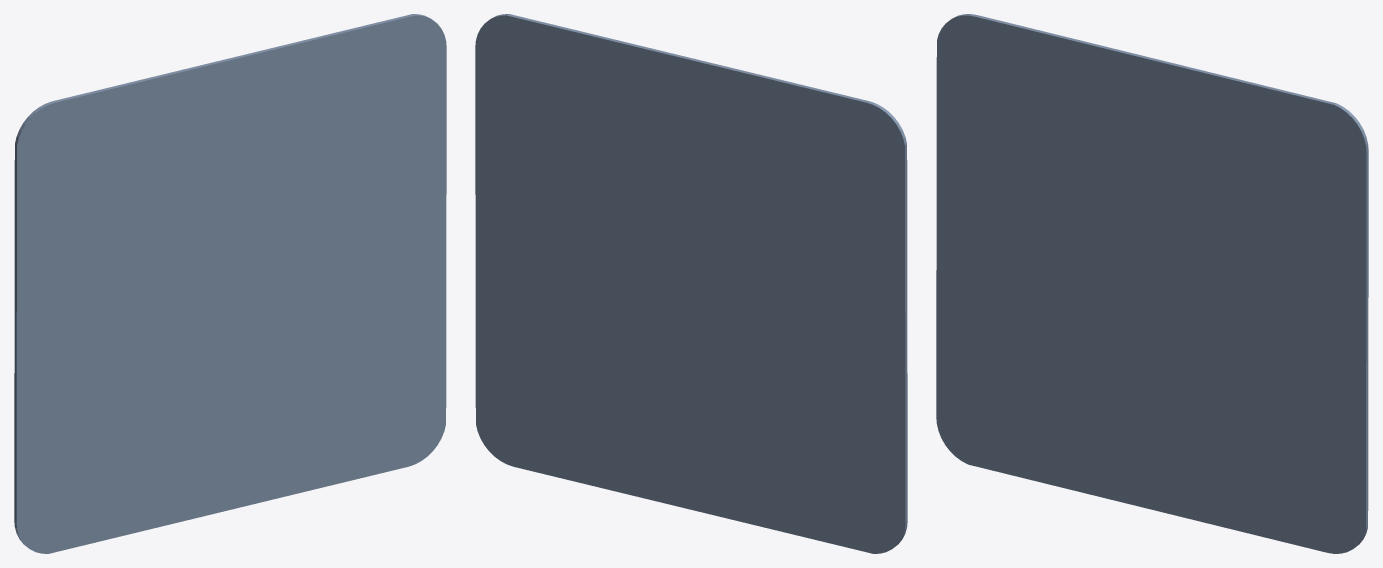
File: ARCH_FLOOR_CARPET_TILE_001.glb
The picture shows the model from 3 angles, left to right: view 1: azimuth 30°, elevation 25°; view 2: azimuth 150°, elevation 25°; view 3: azimuth 330°, elevation 25°; orthographic projection.
Visible parts, largest first — view 1: rug_000; view 2: rug_000; view 3: rug_000.
Part boxes in pixels (<box>): rug_000: <box>14,14,446,553</box>; rug_000: <box>475,14,907,553</box>; rug_000: <box>936,14,1368,553</box>.
Bounding box in the file's own units: 2 × 2 × 0.018.
